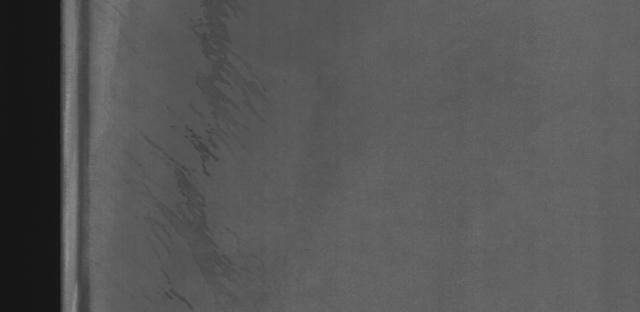water_spot: (136, 0, 275, 308)
